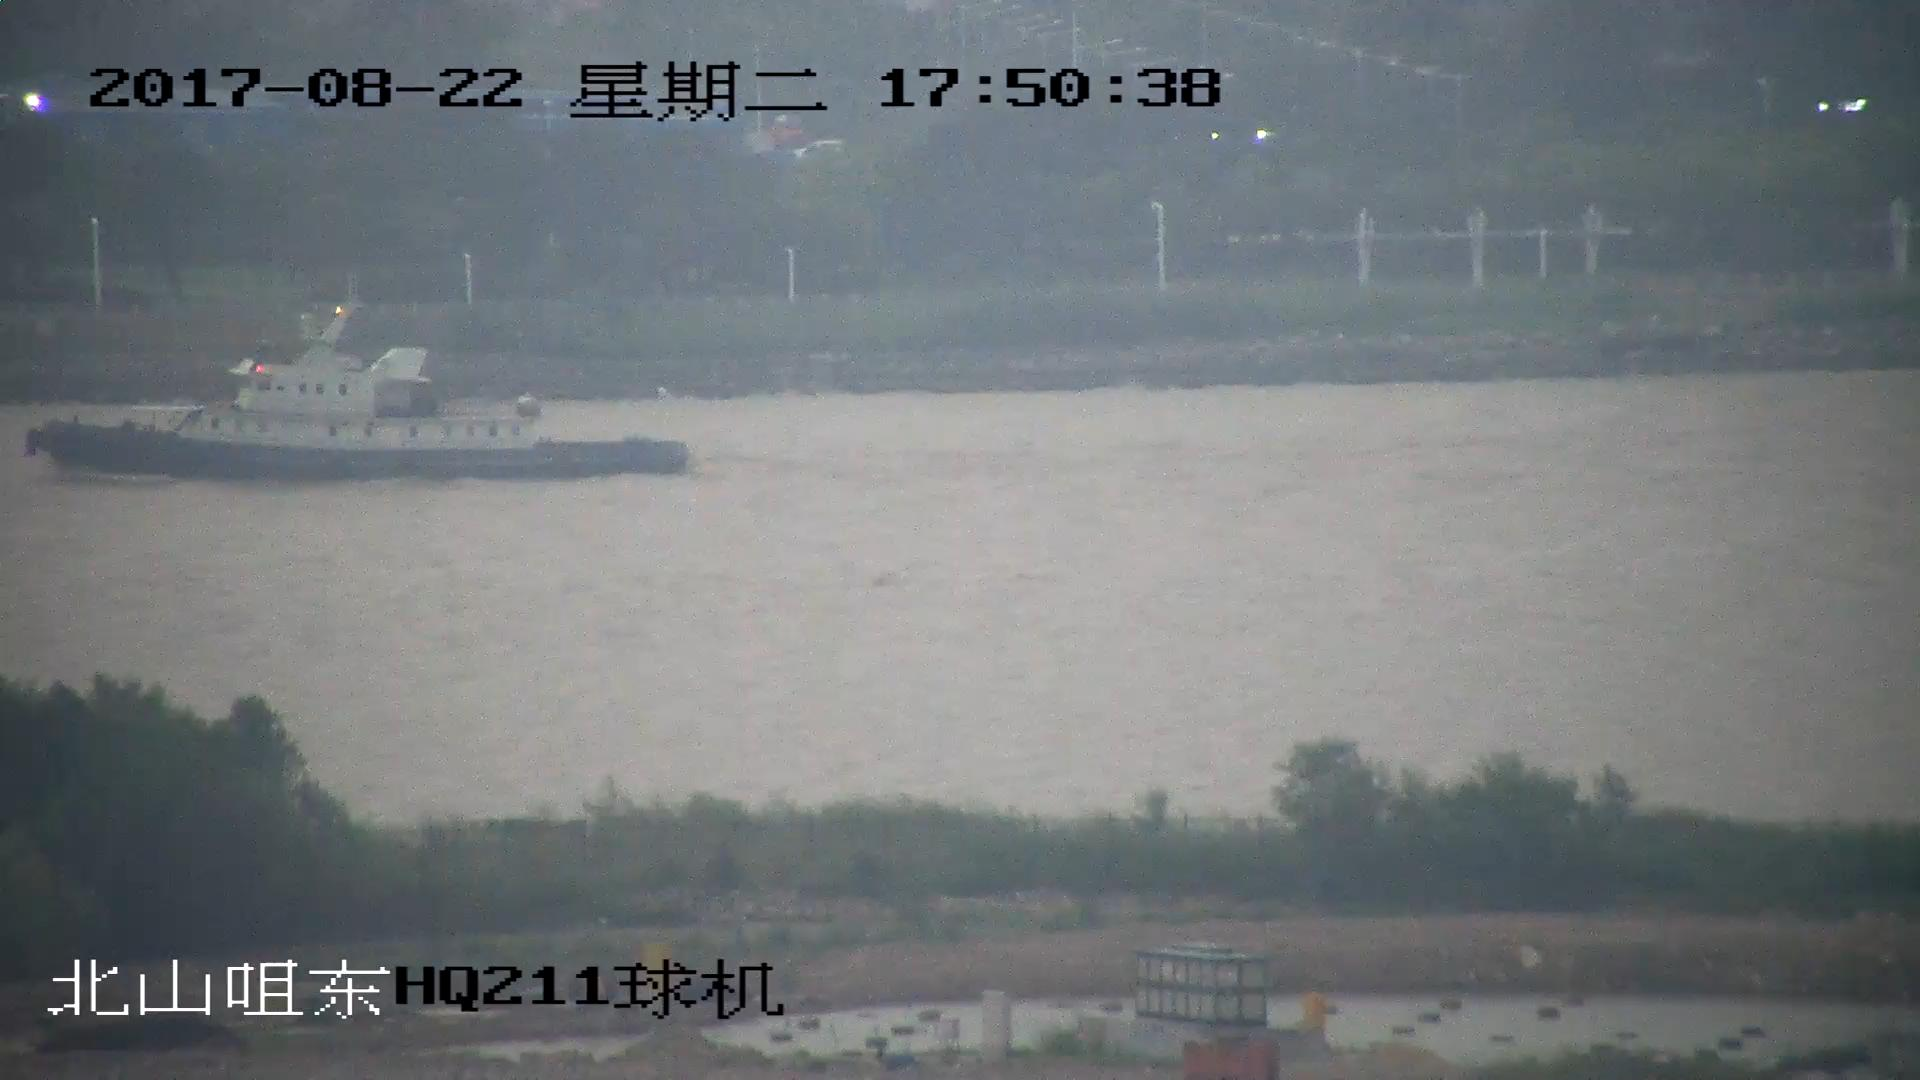passenger ship: (26, 293, 696, 481)
